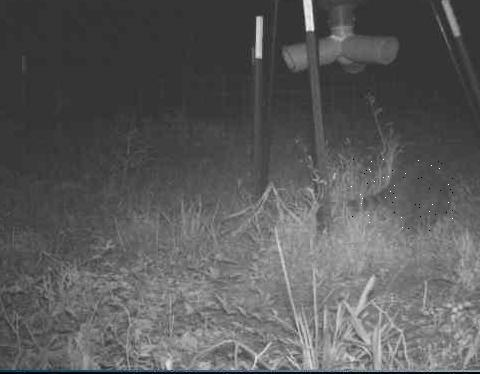Raccoon: (346, 159, 454, 231)
